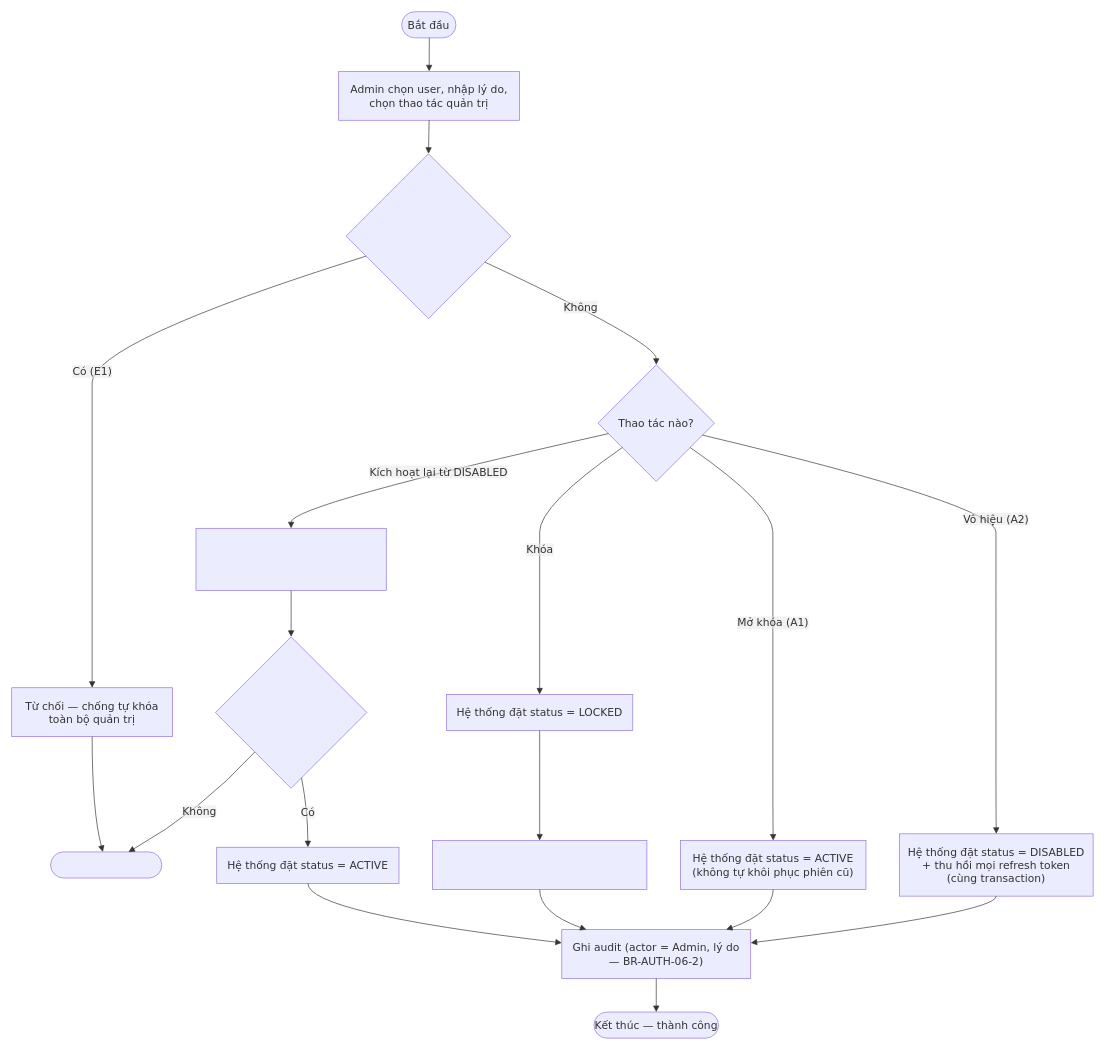
The diagram is 1105 pixels wide and 1050 high, and some of its shapes have lost their labels. The centre of each missing label's shape, as x and y in pixels:
"Admin thao tác trên chính mình?" goes at point (428, 236).
"Chạy quy trình phê duyệt riêng (ghi rõ lý do) — không phải thao tác một nút" goes at point (290, 559).
"Kết thúc — thất bại" goes at point (106, 864).
"Phê duyệt đồng ý?" goes at point (291, 712).
"Thu hồi mọi refresh token của user (CÙNG transaction — BR-AUTH-06-1)" goes at point (539, 864).
